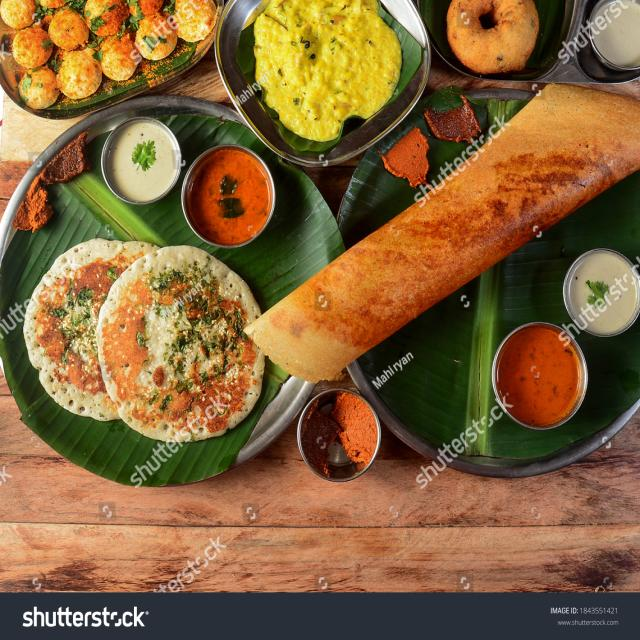DOSA: (244, 83, 640, 382)
MEDU VADA: (444, 0, 541, 80)
